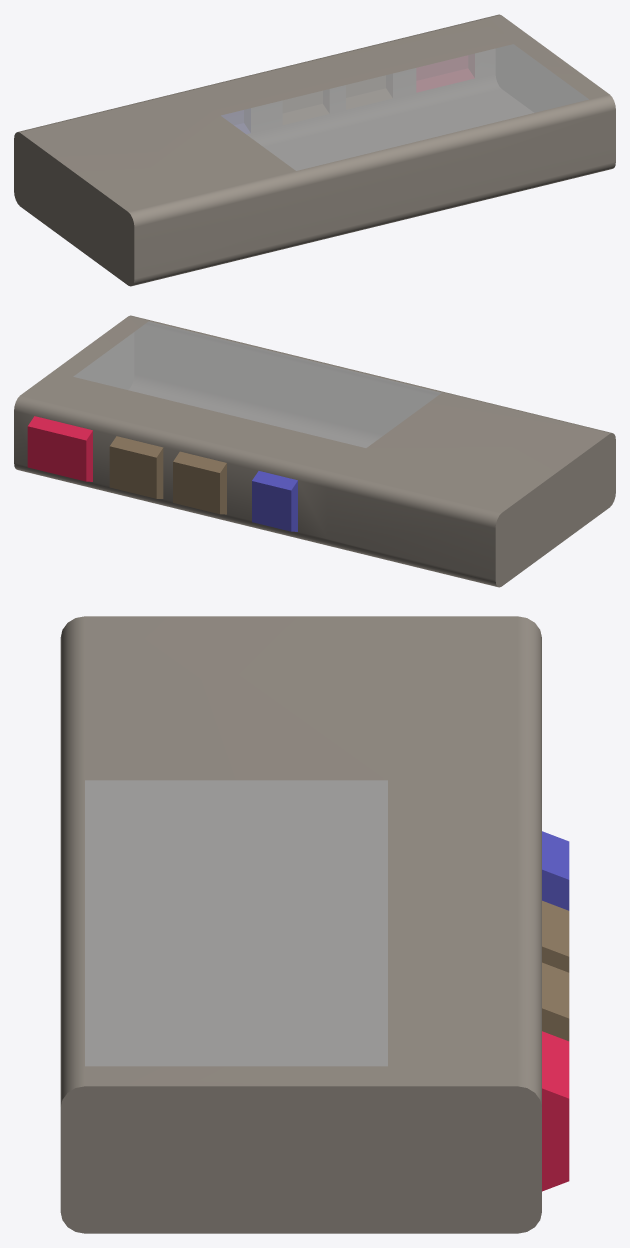
File: CassettePlayer.fbx
3 views of the same model, one above another, from view 1: azimuth 30°, elevation 25°; view 2: azimuth 150°, elevation 25°; view 3: azimuth 270°, elevation 25° (orthographic). The views are drawn at different scales.
Visible parts, largest first — view 1: CassettePlayer; view 2: CassettePlayer; view 3: CassettePlayer.
Boxes of the visible parts, x1,y1,x2,y2 form: CassettePlayer: (14, 14, 615, 286); CassettePlayer: (14, 315, 615, 587); CassettePlayer: (60, 616, 569, 1233).
Size of the model in its own units: 3.73 by 0.5449 by 1.71.
